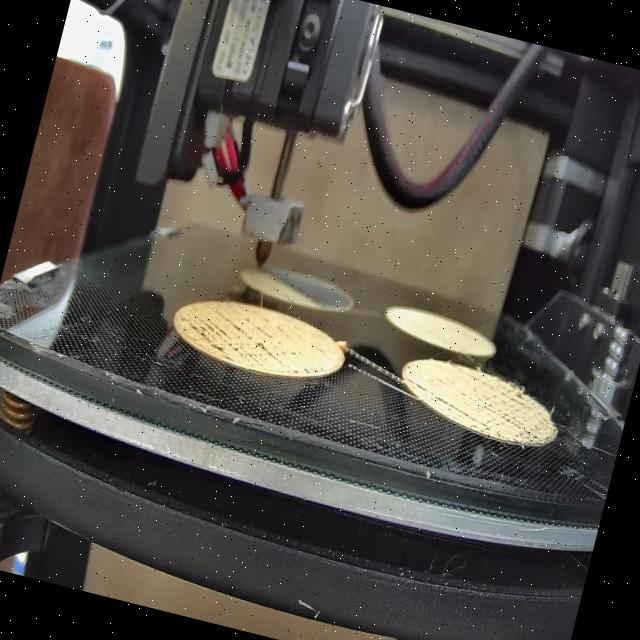under_extrusion: (173, 304, 332, 381), (458, 374, 552, 448), (398, 376, 462, 413)
